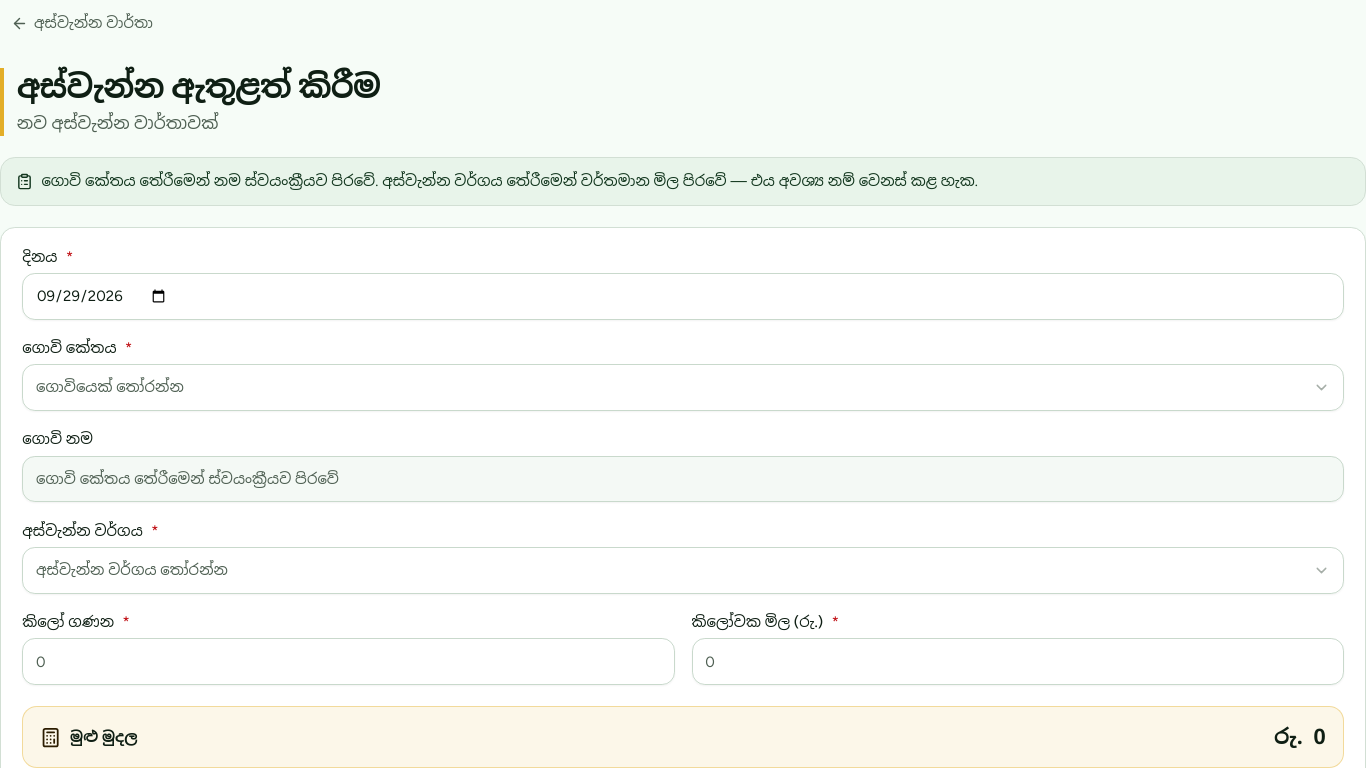
Test: HarvestEntryPage › auto-fills the farmer name and current price, and shows the live total before saving
The width and height of the screenshot is (1366, 768).
Click the dropdown with test id "harvest.farmer_select": coordinates (110, 387) [22,364,1344,411]
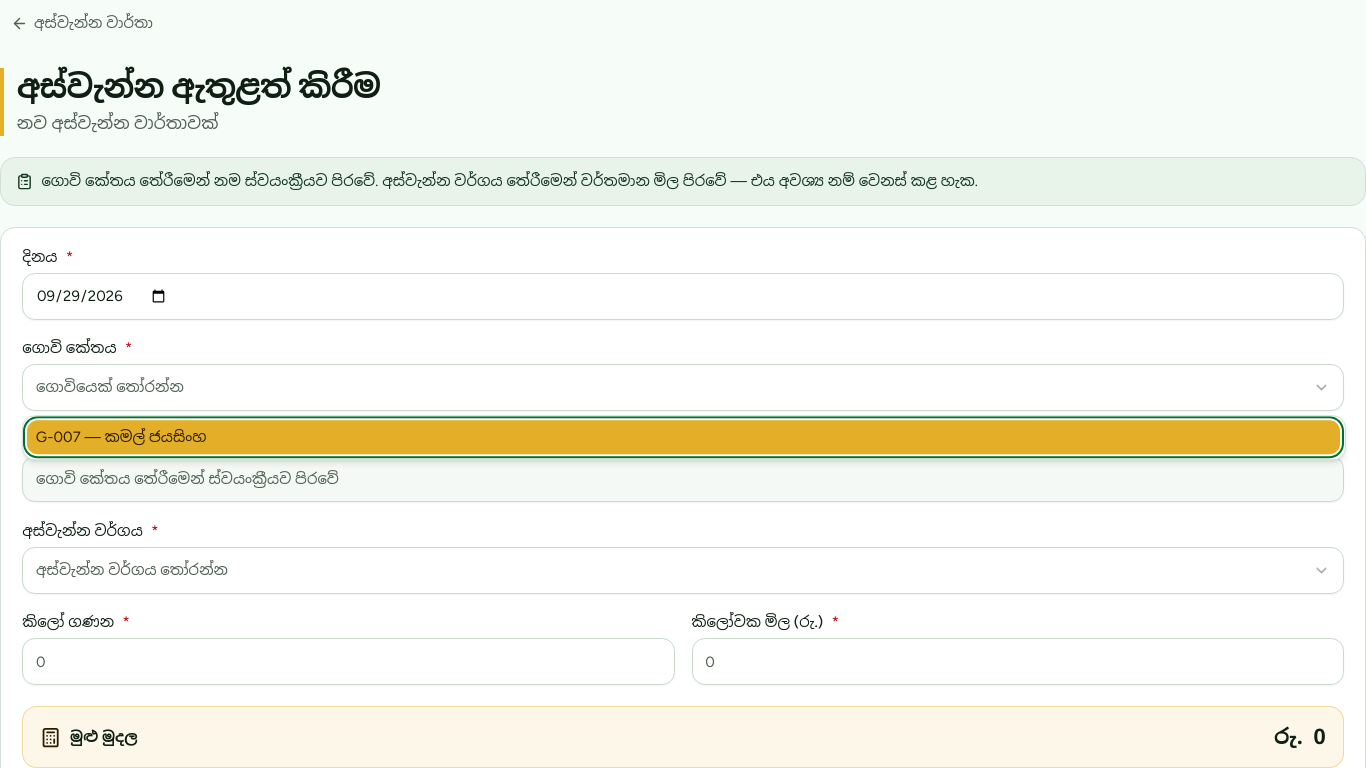
Click the option "G-007 — කමල් ජයසිංහ": coordinates (58, 437) [27,420,1340,454]
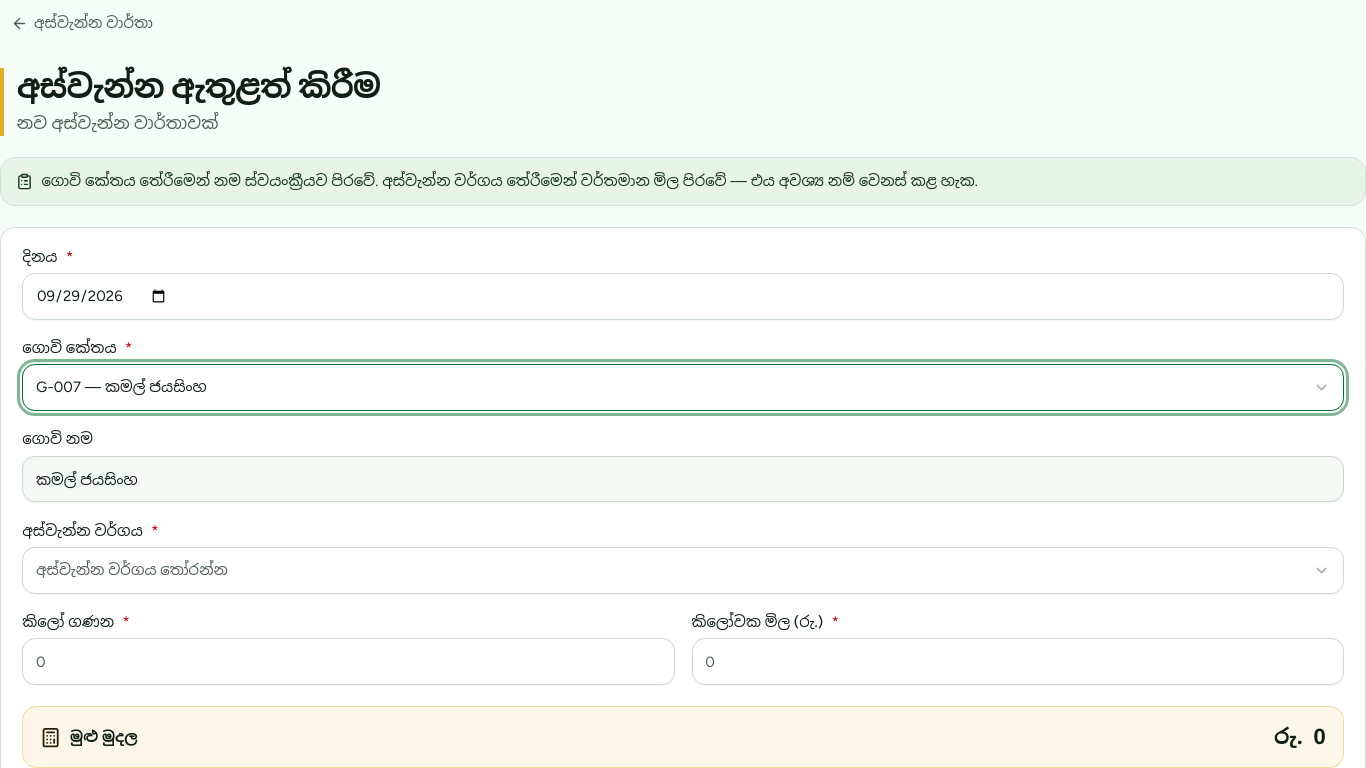
Result: the field with test id "harvest.farmer_name_input" holds "කමල් ජයසිංහ" at [22,456,1344,502]
Click the dropdown with test id "harvest.product_select": coordinates (132, 570) [22,547,1344,594]
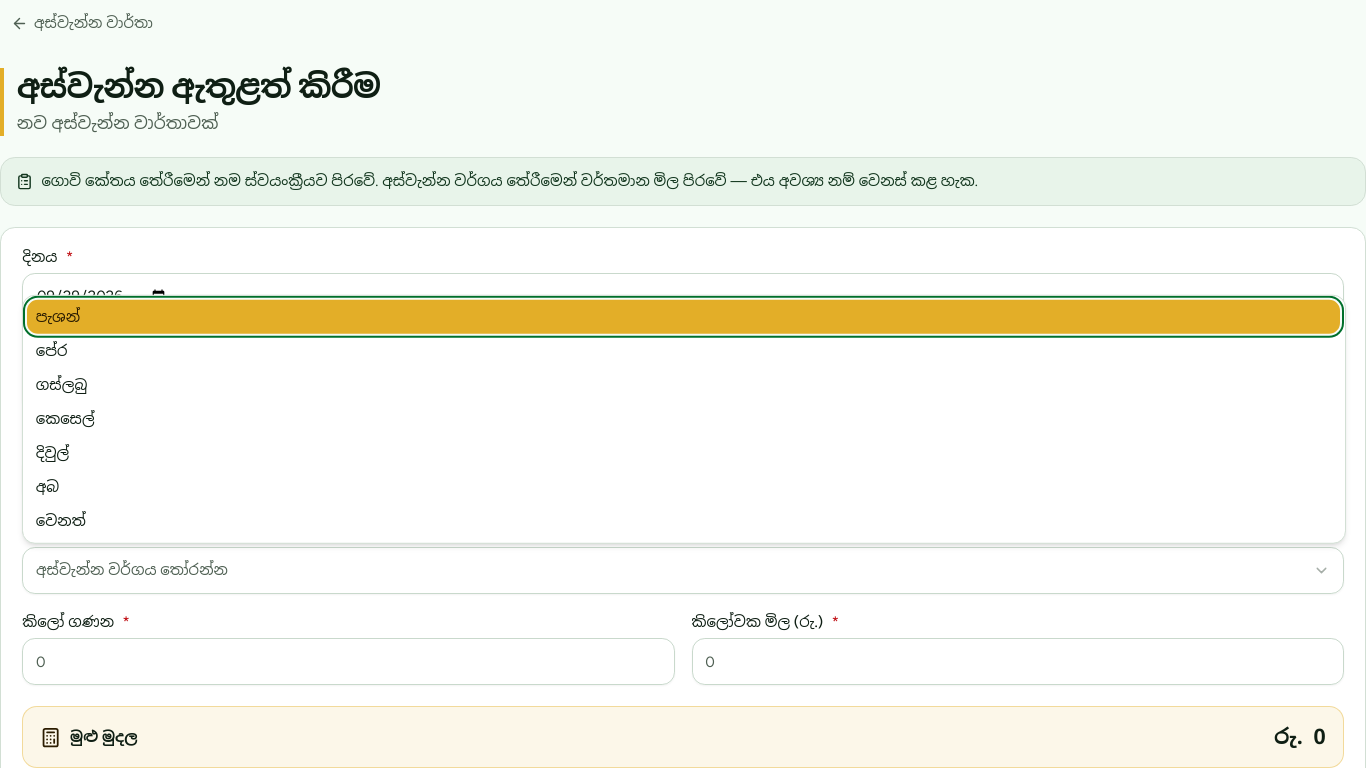
Click the option "කෙසෙල්": coordinates (65, 418) [36,409,95,427]
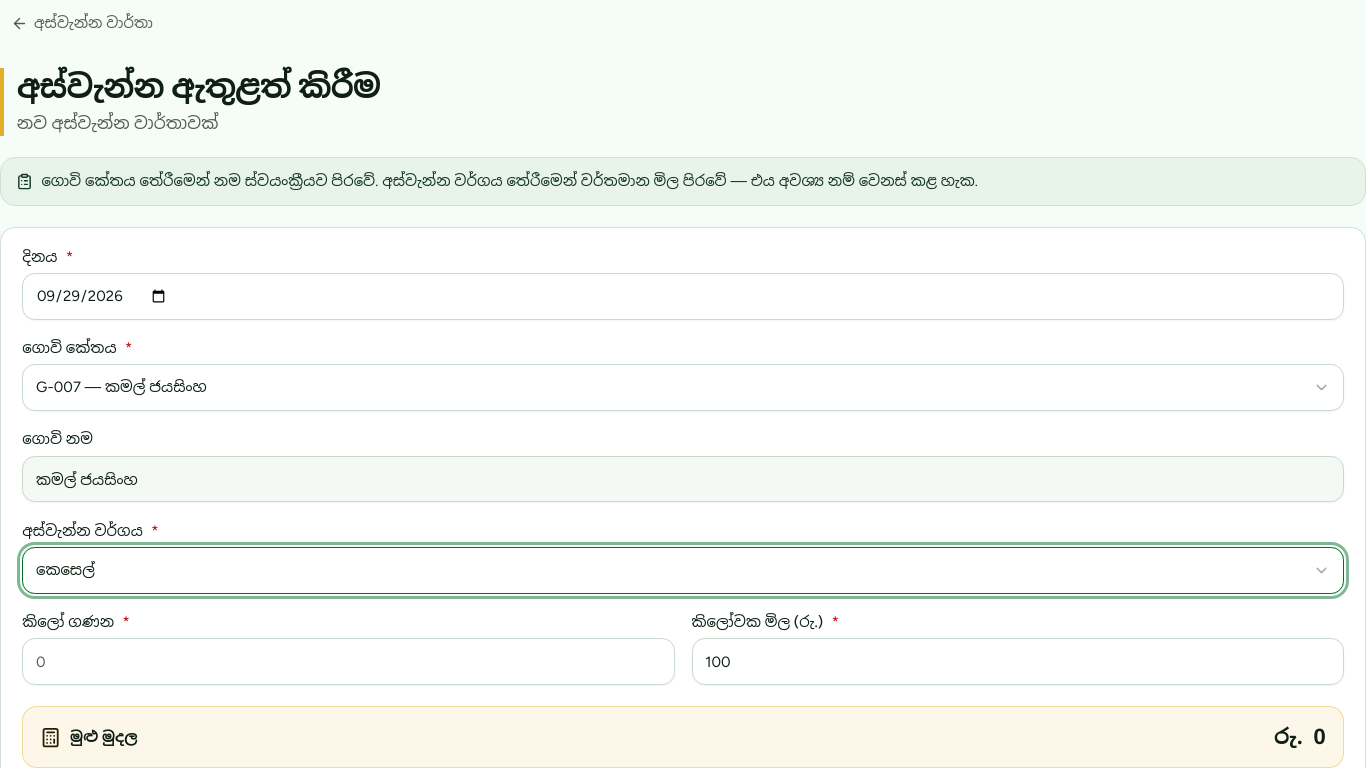
Result: the number field with test id "harvest.price_input" holds "100" at [692,638,1344,685]
In the number field with test id "harvest.kg_input": coordinates (348, 662) [22,638,675,685], type "10"
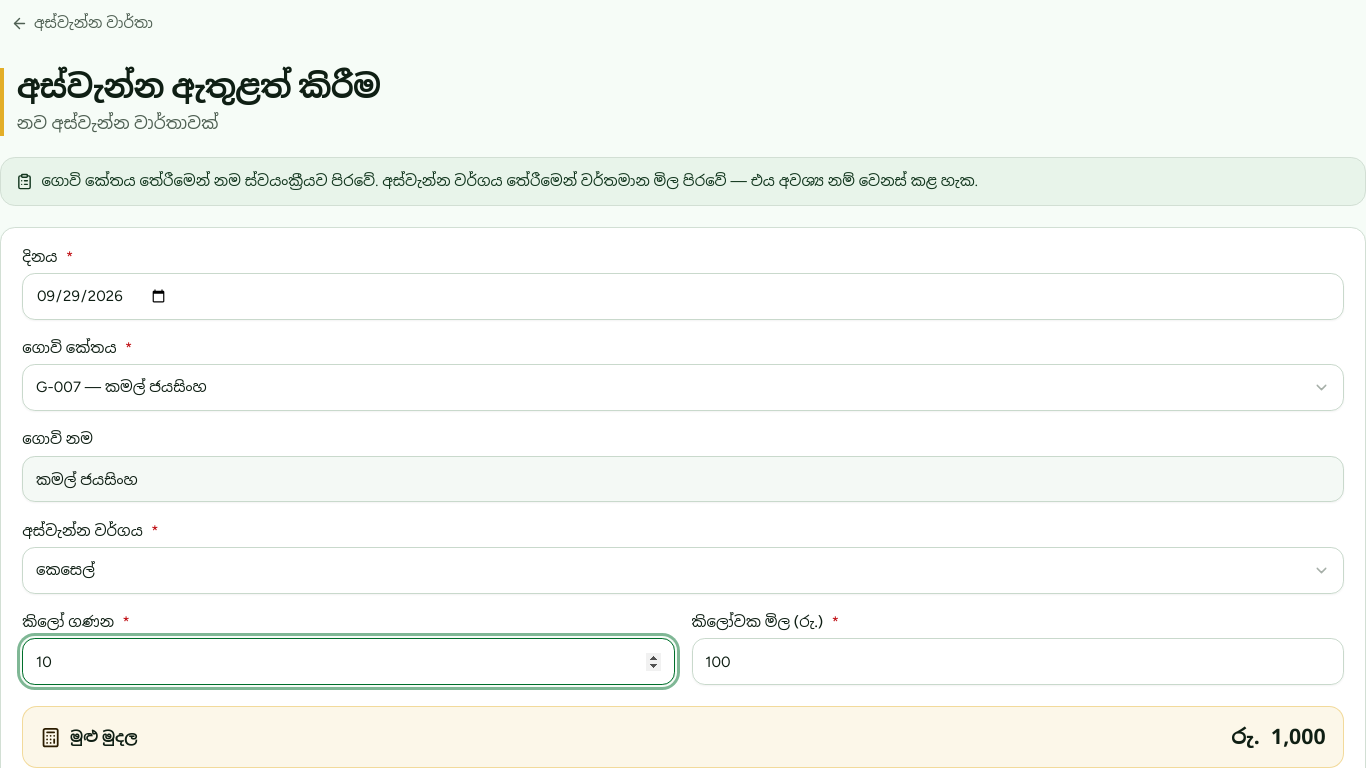
Result: the text with test id "harvest.total_value" reads "රු. 1,000" at [1231,723,1326,750]
